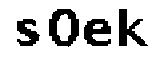0: (46, 6, 80, 53)
e: (82, 17, 114, 51)
k: (115, 6, 150, 52)
s: (13, 18, 40, 50)
